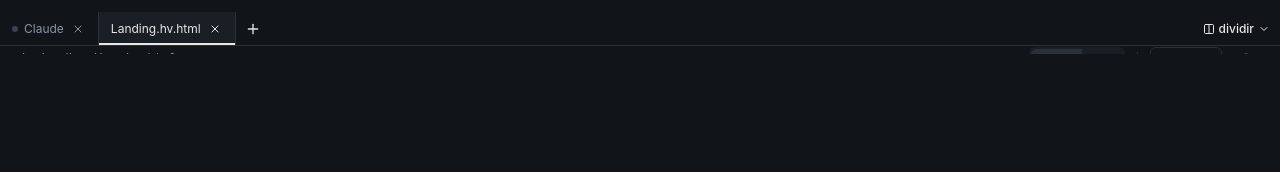
Scenario: closing the design tab removes its pane and its frame (#533)
Click the button named "Fechar Landing.hv.html".
click(215, 28)  # box [207,20,223,36]
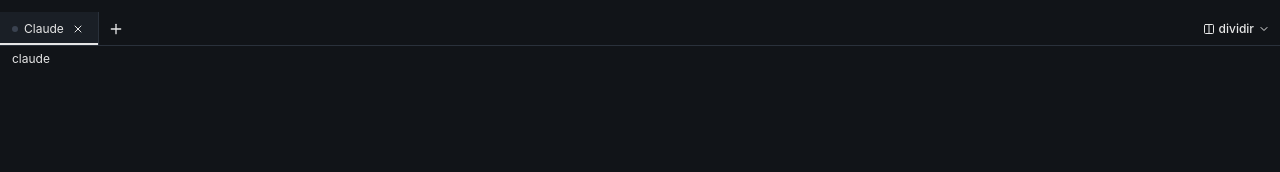
Check: the tab titled "Landing.hv.html" is gone
